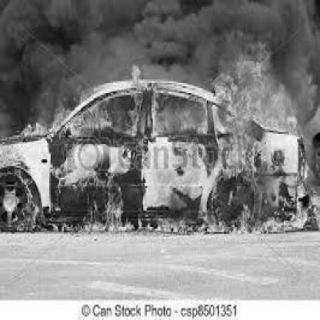Fire: (58, 173, 136, 233), (0, 164, 42, 229)
Smoke: (0, 0, 209, 78)
